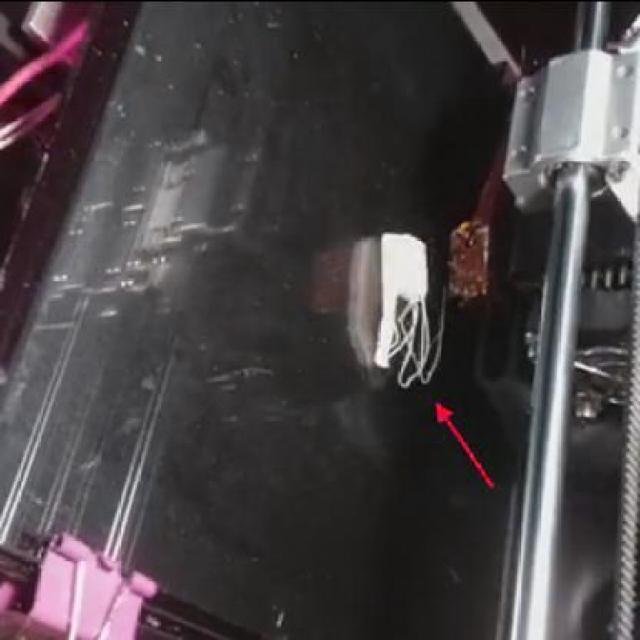spaghetti: (391, 292, 449, 388)
